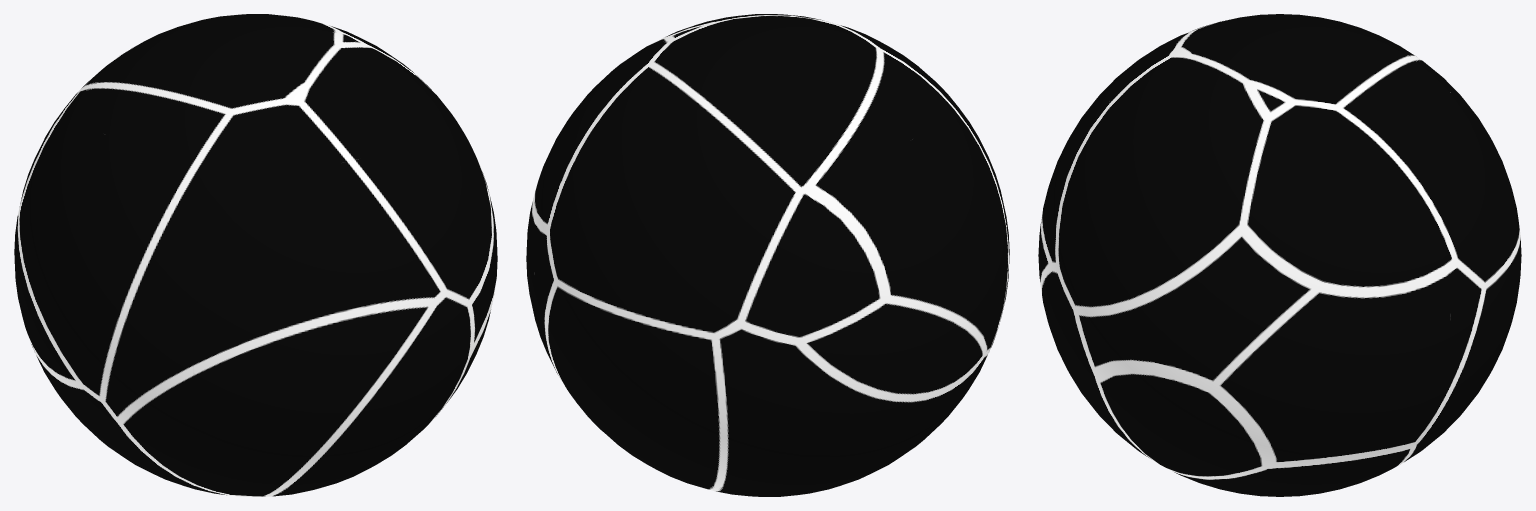
File: black_hole.glb
3 views of the same model, side by side, from view 1: azimuth 30°, elevation 25°; view 2: azimuth 150°, elevation 25°; view 3: azimuth 270°, elevation 25° (orthographic).
Parts seen in each view (by area): view 1: Roundcube; view 2: Roundcube; view 3: Roundcube.
Part boxes in pixels (left/top/right/bottom): Roundcube: left=14, top=14, right=497, bottom=496; Roundcube: left=526, top=14, right=1009, bottom=496; Roundcube: left=1038, top=14, right=1521, bottom=496.
Size of the model in its own units: 2 by 2 by 2.
Materials: 1 (1 with a texture image).
